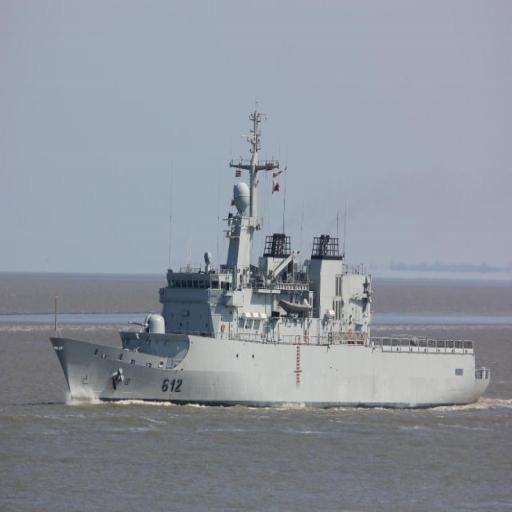Fragata: (45, 99, 493, 411)
